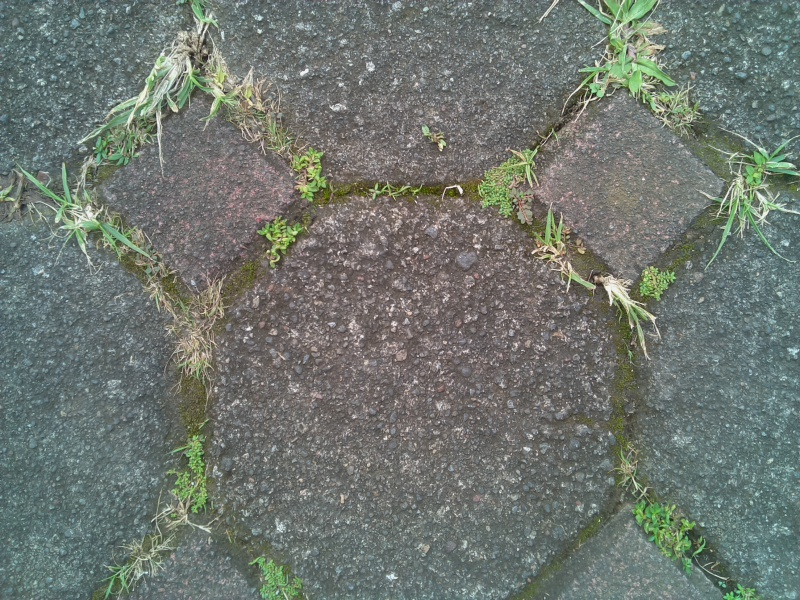Weed: (581, 3, 672, 100), (37, 172, 137, 259), (212, 70, 298, 155), (132, 42, 217, 115), (629, 497, 706, 571), (170, 283, 231, 370), (530, 208, 593, 292), (587, 265, 649, 348), (480, 147, 541, 221), (712, 170, 780, 234), (166, 434, 219, 512), (89, 117, 158, 166), (104, 543, 176, 589), (244, 549, 307, 600), (642, 85, 699, 138), (732, 146, 800, 189), (256, 208, 307, 260), (288, 149, 336, 199), (609, 439, 646, 494), (637, 258, 677, 302), (414, 121, 450, 159), (712, 572, 758, 600), (368, 178, 401, 205)
